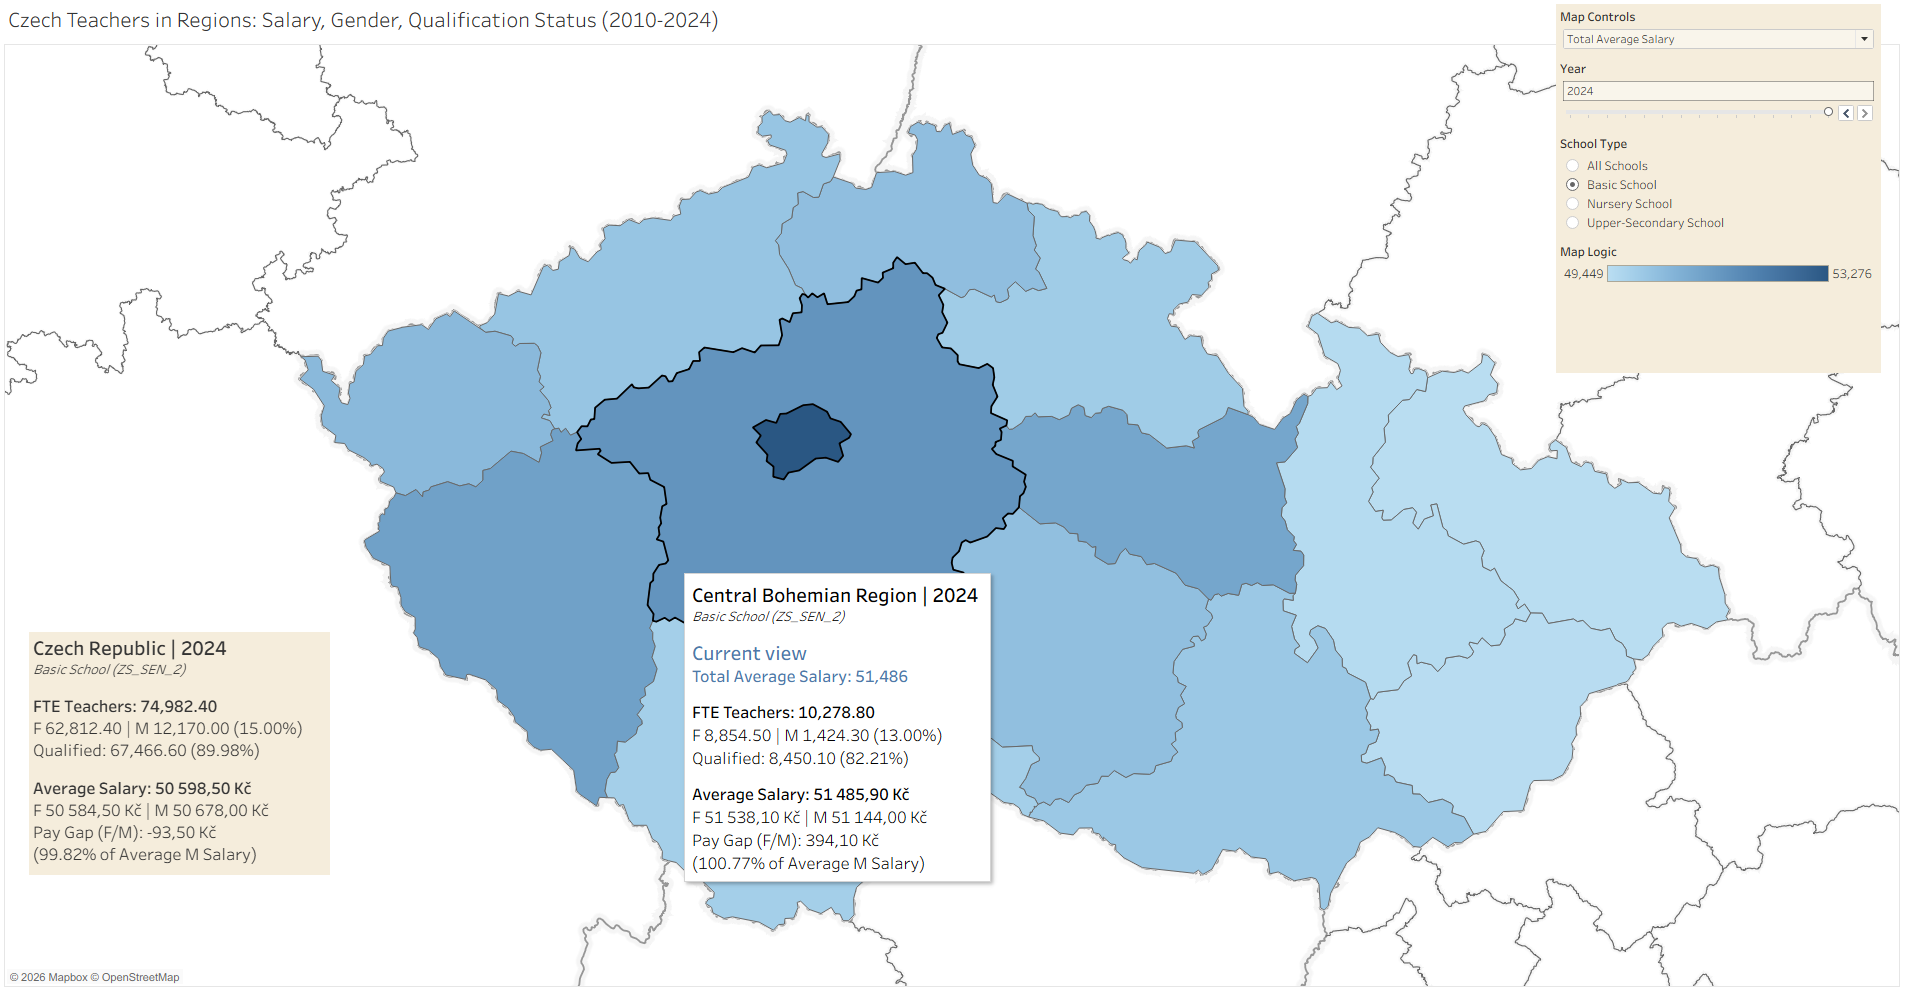

The page's visual inventory and layout, read from the dashboard file:
{"tool":"tableau","page":{"name":"Czech Teachers in Regions","canvas":[1000,1000],"units":"permille","ordinal":0},"visuals":[{"type":"worksheet","title":"CZ_Teachers_Regions","mark":"Multipolygon","box":[4.7,9.3,990.6,981.3]},{"type":"parameter","param":"[Parameters].[Parameter 1]","box":[814.5,15.2,169.1,60.8]},{"type":"filter","title":"CZ_Teachers_Regions","param":"[federated.17cq9f01jze1vl1fha17p0q1u5md].[none:year:ok]","box":[814.5,75.9,169.1,87.6]},{"type":"filter","title":"CZ_Teachers_Regions","param":"[federated.17cq9f01jze1vl1fha17p0q1u5md].[none:school_type_en:nk]","box":[814.5,163.6,169.1,126.2]},{"type":"legend","title":"CZ_Teachers_Regions","param":"[federated.17cq9f01jze1vl1fha17p0q1u5md].[usr:Calculation_1743856198328323:qk]","box":[814.5,289.7,169.1,75.9]},{"type":"worksheet","title":"CZ_Teachers_National","mark":"Automatic","box":[19.3,636.7,200.7,302.6]}]}

Visuals, with their boxes on the dashboard's canvas, which has no fixed pixel size, in thousandths of its width and height (x1, y1, x2, y2). These are canvas units, not pixel positions in the 1907x998 screenshot, which may show the page scaled, cropped or inside an application window:
"CZ_Teachers_Regions" worksheet (Multipolygon marks): bbox=(5, 9, 995, 991)
parameter: bbox=(814, 15, 984, 76)
"CZ_Teachers_Regions" filter: bbox=(814, 76, 984, 164)
"CZ_Teachers_Regions" filter: bbox=(814, 164, 984, 290)
"CZ_Teachers_Regions" legend: bbox=(814, 290, 984, 366)
"CZ_Teachers_National" worksheet: bbox=(19, 637, 220, 939)
